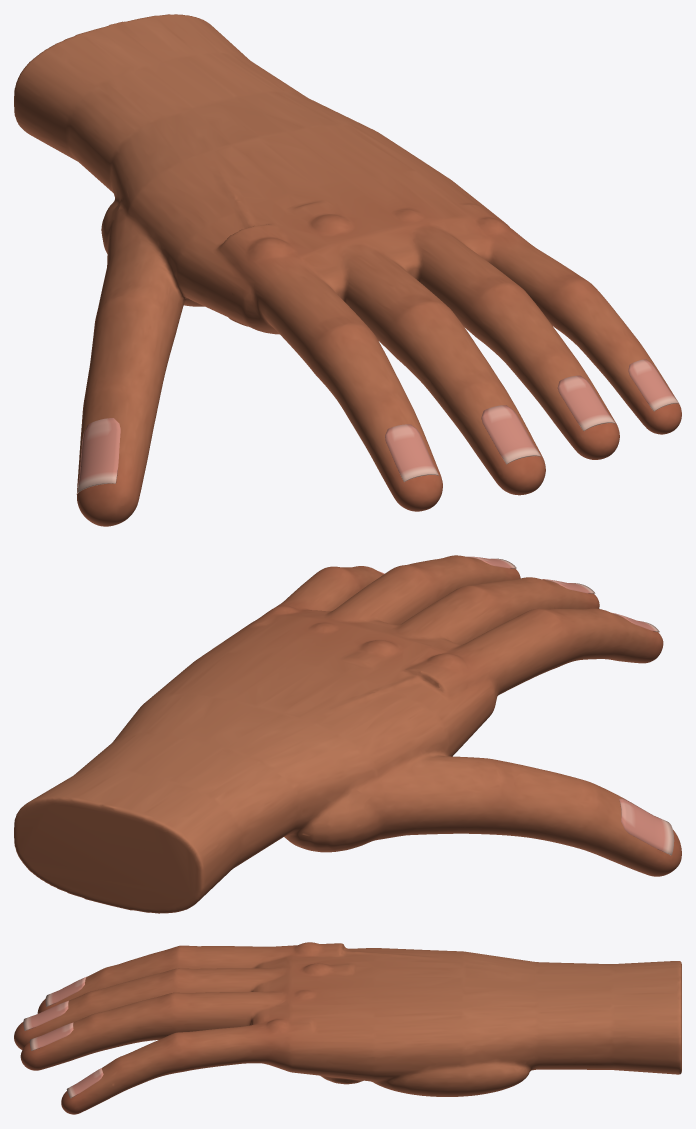
The model's file is SimulatedHand_L.fbx.
3 renders of one model, top to bottom at view 1: azimuth 30°, elevation 25°; view 2: azimuth 150°, elevation 25°; view 3: azimuth 270°, elevation 25°, orthographic. The views are drawn at different scales.
Visible parts, largest first — view 1: Hand_Skin, Hand_Nails; view 2: Hand_Skin, Hand_Nails; view 3: Hand_Skin, Hand_Nails.
Boxes of the visible parts, x1,y1,x2,y2 form: Hand_Skin: (14, 14, 681, 526); Hand_Nails: (77, 359, 678, 493); Hand_Skin: (14, 555, 681, 913); Hand_Nails: (378, 556, 674, 855); Hand_Skin: (14, 942, 681, 1114); Hand_Nails: (23, 976, 103, 1098).
Bounding box in the file's own units: 0.137 × 0.0601 × 0.2388.
